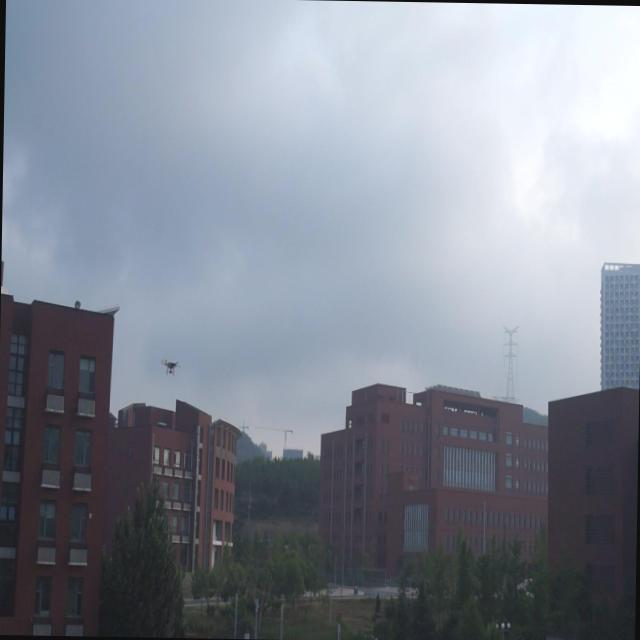drone: (160, 354, 180, 380)
